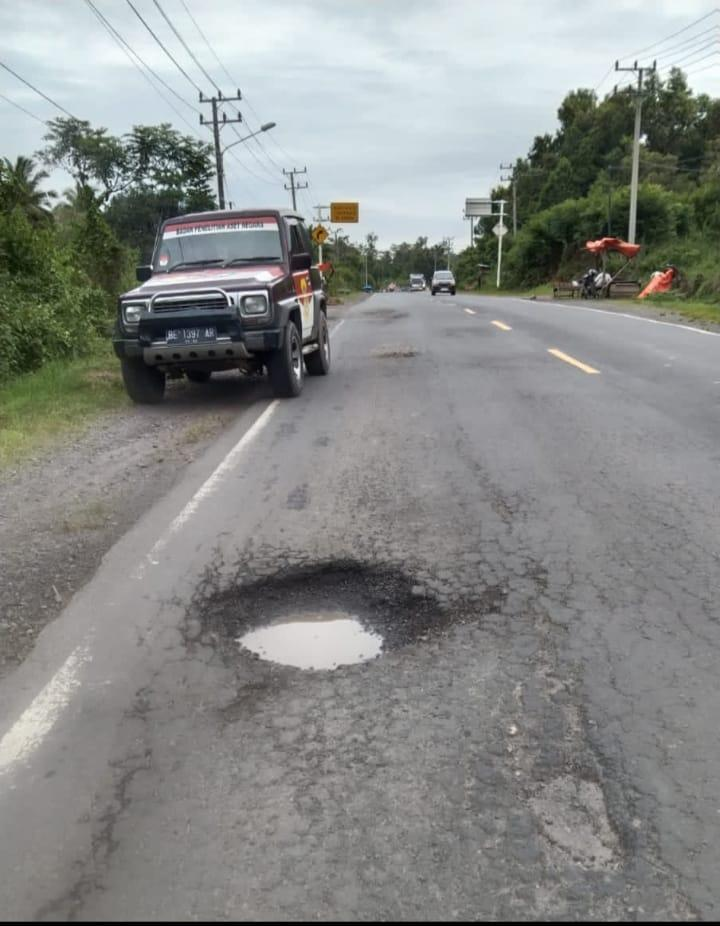Pothole: (184, 525, 486, 714), (508, 751, 635, 873)
